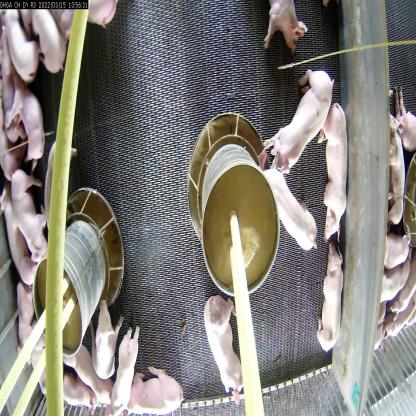Pig: (256, 68, 340, 188), (0, 160, 64, 268), (264, 143, 318, 268), (318, 82, 354, 235), (200, 293, 245, 412), (314, 246, 353, 361), (2, 63, 45, 160), (115, 368, 196, 415), (267, 0, 316, 69), (29, 10, 70, 88), (111, 323, 144, 415), (62, 343, 113, 402), (94, 286, 123, 380), (8, 15, 46, 75)
